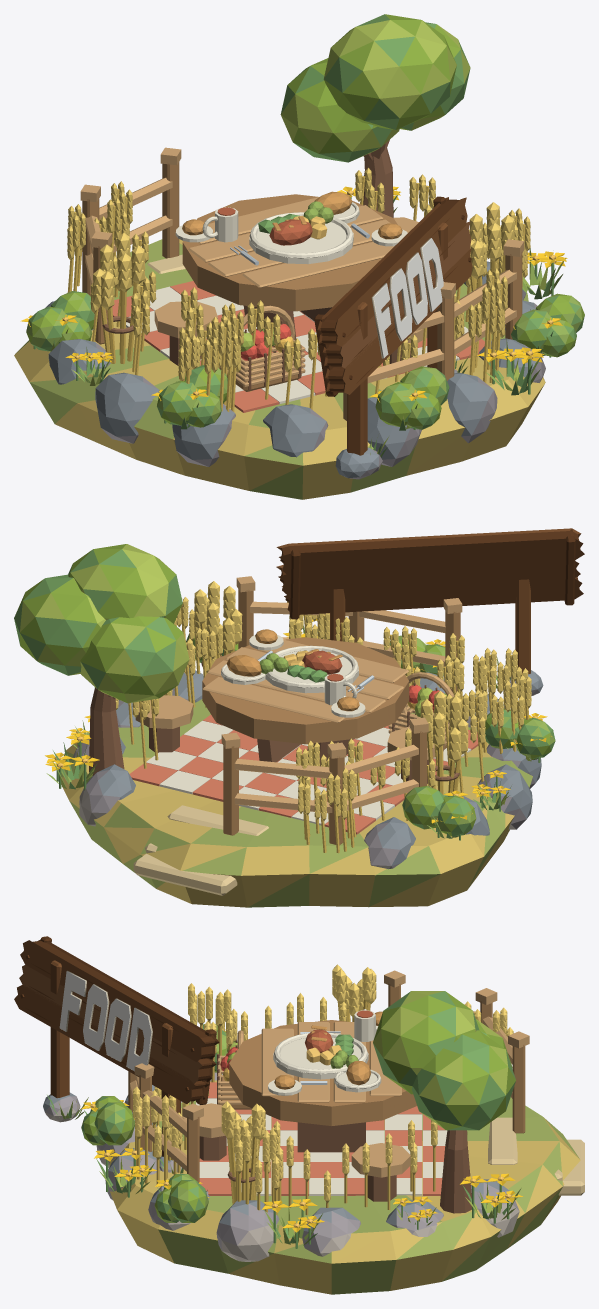
The model's file is food.glb.
3 views of the same model, one above another, from view 1: azimuth 30°, elevation 25°; view 2: azimuth 150°, elevation 25°; view 3: azimuth 270°, elevation 25° (orthographic). The views are drawn at different scales.
Visible parts, largest first — view 1: Food color-batched geometry; view 2: Food color-batched geometry; view 3: Food color-batched geometry.
Part boxes in pixels (x1=…): Food color-batched geometry: x1=14, y1=14, x2=584, y2=499; Food color-batched geometry: x1=14, y1=528, x2=584, y2=907; Food color-batched geometry: x1=14, y1=936, x2=584, y2=1294.
Bounding box in the file's own units: 5.63 × 3.36 × 6.35.
